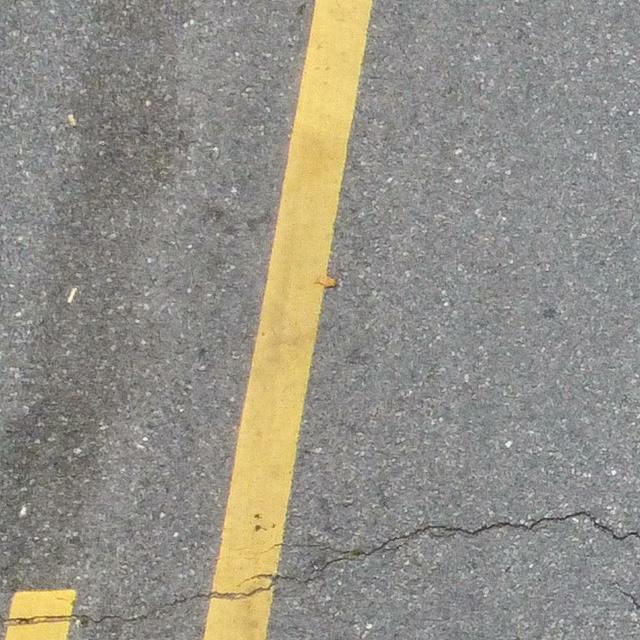TransverseCrack: (1, 509, 640, 626)
